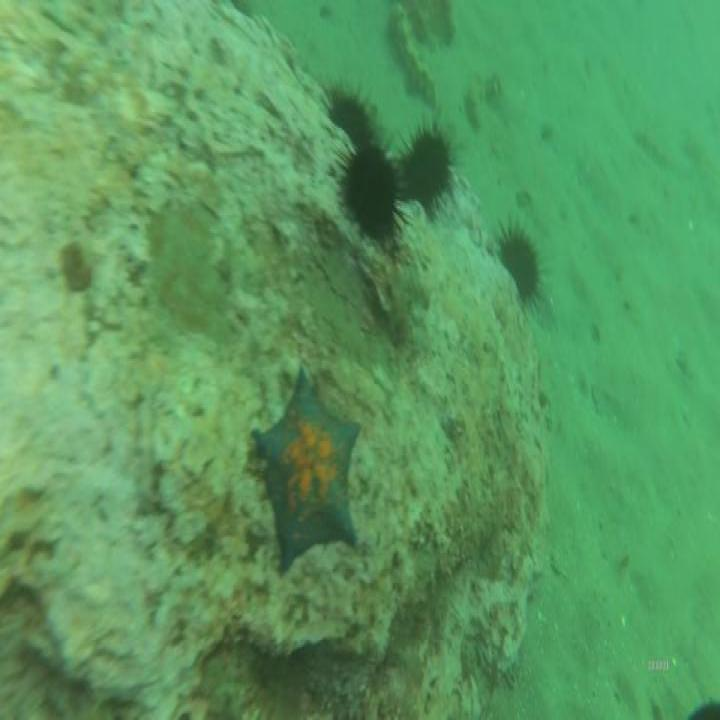echinus: (332, 126, 415, 258), (492, 206, 554, 324), (400, 112, 464, 222), (319, 71, 382, 155)
holothurian: (385, 1, 441, 106)
starfish: (250, 366, 364, 576)
